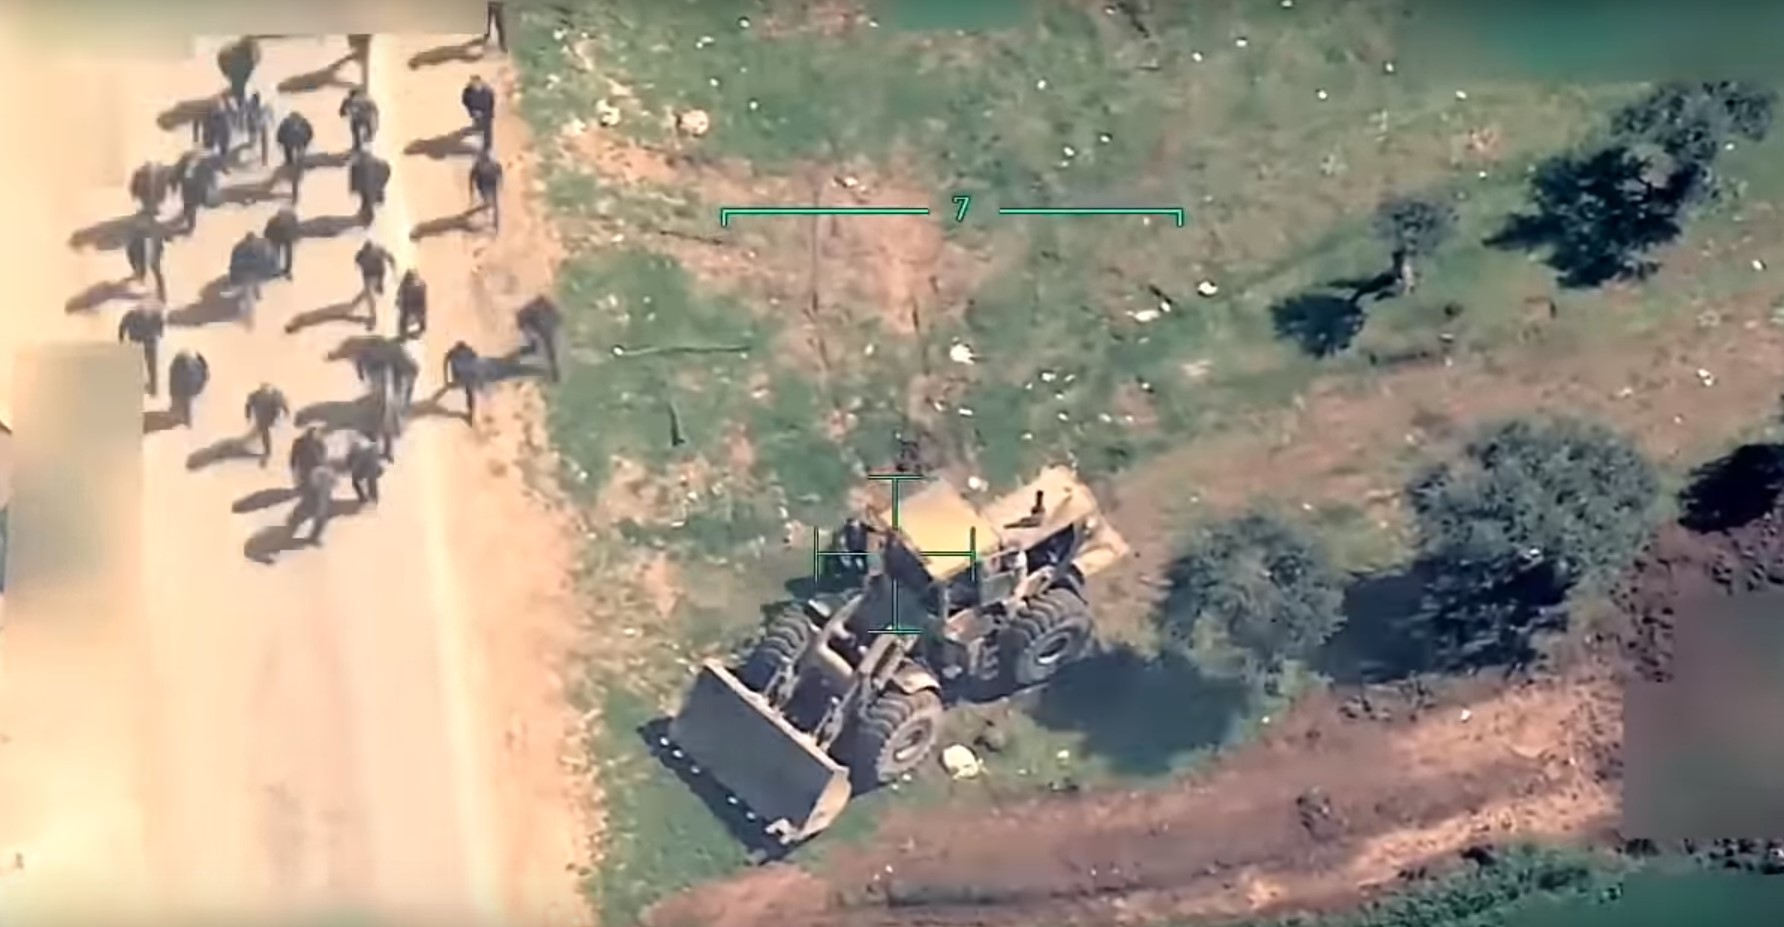araba: (646, 462, 1160, 849)
insan: (434, 330, 497, 428), (223, 224, 278, 334), (284, 423, 336, 540), (508, 285, 567, 380), (341, 142, 401, 232), (115, 296, 162, 406), (398, 257, 444, 363), (467, 139, 515, 241), (349, 229, 395, 332), (162, 338, 209, 438), (244, 373, 289, 477), (127, 212, 174, 300), (132, 157, 177, 245), (460, 68, 507, 148), (223, 21, 261, 118), (344, 426, 383, 515), (477, 1, 531, 60), (177, 136, 210, 226)
